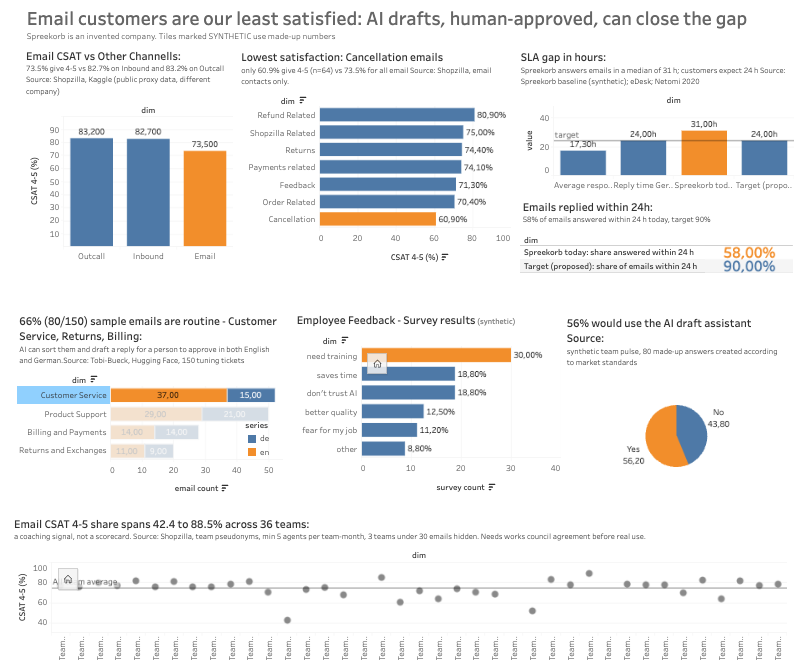

The dashboard page shown, as its layout file describes it:
{"tool":"tableau","page":{"name":"Dashboard 1","canvas":[1200,1000],"ordinal":0},"visuals":[{"type":"text","box":[41,7,1128,57]},{"type":"worksheet","title":"M1 Email CSAT vs other channels","mark":"Automatic","rows":["value"],"cols":["dim"],"box":[36,66,315,326]},{"type":"worksheet","title":"M2 Email CSAT by category","mark":"Automatic","rows":["dim"],"cols":["value"],"box":[359,68,408,331]},{"type":"worksheet","title":"M3a SLA gap in hours","mark":"Automatic","rows":["value"],"cols":["dim"],"box":[778,68,414,218]},{"type":"worksheet","title":"M3b Share within 24 h","mark":"Automatic","rows":["dim"],"box":[781,293,409,110]},{"type":"worksheet","title":"M6b Reasons","mark":"Bar","rows":["dim"],"cols":["value"],"box":[442,462,400,282]},{"type":"worksheet","title":"M4 UC1 triage mix","mark":"Automatic","rows":["dim"],"cols":["value"],"box":[26,464,400,282]},{"type":"worksheet","title":"M6a Would use the AI draft assistant","mark":"Pie","box":[847,467,336,280]},{"type":"legend","title":"M4 UC1 triage mix","param":"[federated.1g7jclm1wz2cvt0zqkg7z0pdt4y6].[none:series:nk]","box":[369,629,53,59]},{"type":"worksheet","title":"M5 UC3 team view","mark":"Circle","rows":["value"],"cols":["dim"],"box":[18,768,1163,224]}]}

Visuals, with their boxes in screenshot pixels (x1, y1, x2, y2), scaled from the page's 1200x1000 canvas onto the 799x666 screenshot:
text: (x1=27, y1=5, x2=778, y2=43)
"M1 Email CSAT vs other channels" worksheet: (x1=24, y1=44, x2=234, y2=261)
"M2 Email CSAT by category" worksheet: (x1=239, y1=45, x2=511, y2=266)
"M3a SLA gap in hours" worksheet: (x1=518, y1=45, x2=794, y2=190)
"M3b Share within 24 h" worksheet: (x1=520, y1=195, x2=792, y2=268)
"M6b Reasons" worksheet (Bar marks): (x1=294, y1=308, x2=561, y2=496)
"M4 UC1 triage mix" worksheet: (x1=17, y1=309, x2=284, y2=497)
"M6a Would use the AI draft assistant" worksheet (Pie marks): (x1=564, y1=311, x2=788, y2=498)
"M4 UC1 triage mix" legend: (x1=246, y1=419, x2=281, y2=458)
"M5 UC3 team view" worksheet (Circle marks): (x1=12, y1=511, x2=786, y2=661)
